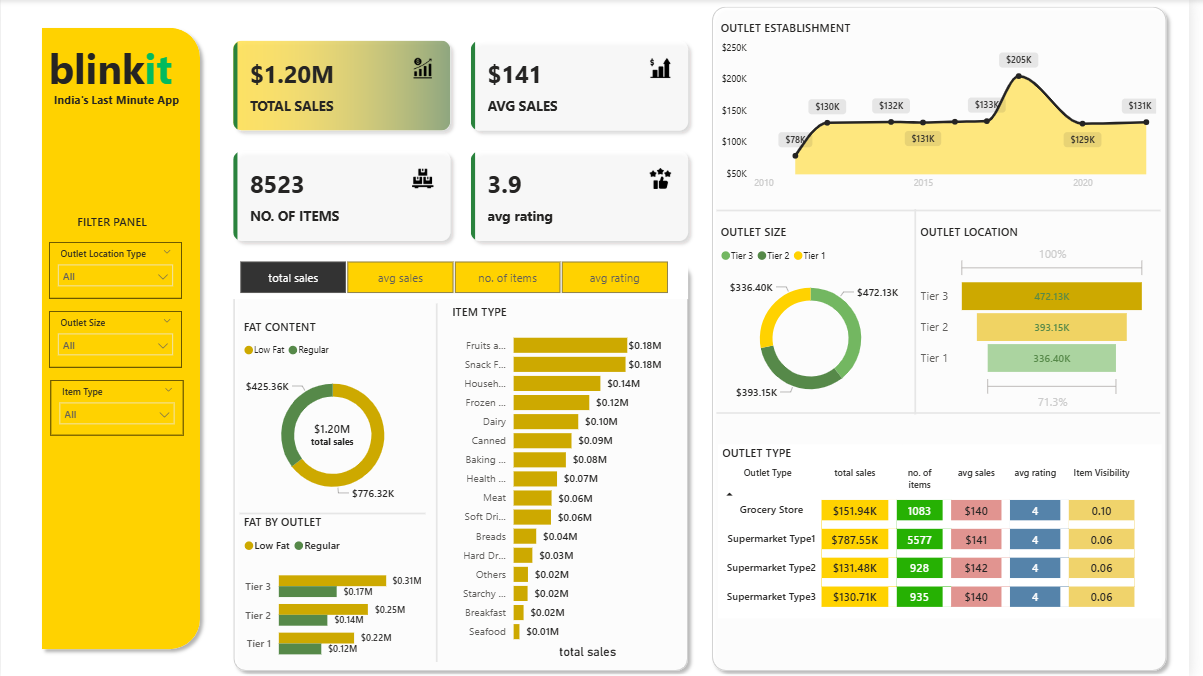

The page's visual inventory and layout, read from the dashboard file:
{"tool":"powerbi","page":{"name":"Page 1","canvas":[1400,800],"ordinal":0},"visuals":[{"type":"shape","box":[39.3,24.8,204.6,750.3],"z":0},{"type":"textbox","box":[51.3,42.4,169.7,125.5],"z":1},{"type":"textbox","box":[50,105,173.3,45],"z":2},{"type":"cardVisual","fields":{"Data":["BlinkIT Grocery Data.total sales","BlinkIT Grocery Data.avg sales","BlinkIT Grocery Data.no. of items","BlinkIT Grocery Data.avg rating"]},"box":[256.3,31.8,570.9,270.4],"z":3},{"type":"shape","box":[265.1,302.2,553.2,498.4],"z":4},{"type":"donutChart","title":"FAT CONTENT","fields":{"Category":["BlinkIT Grocery Data.Item Fat Content"],"Y":["BlinkIT Grocery Data.total sales"]},"box":[281,376.4,219.2,229.8],"z":5},{"type":"cardVisual","fields":{"Data":["BlinkIT Grocery Data.total sales"]},"box":[328.7,473.6,123.7,77.8],"z":7},{"type":"slicer","fields":{"Values":["METRICS 3.METRICS"]},"box":[256.3,302.2,553.2,51.3],"z":8},{"type":"clusteredBarChart","title":"FAT BY OUTLET","fields":{"Y":["BlinkIT Grocery Data.total sales"],"Category":["BlinkIT Grocery Data.Outlet Location Type"],"Series":["BlinkIT Grocery Data.Item Fat Content"]},"box":[281,606.2,219.2,185.6],"z":9},{"type":"shape","box":[281,569.1,219.2,74.2],"z":10},{"type":"shape","box":[500.2,358.8,26.5,422.4],"z":11},{"type":"barChart","title":"ITEM TYPE","fields":{"Category":["BlinkIT Grocery Data.Item Type"],"Y":["BlinkIT Grocery Data.total sales"]},"box":[526.7,358.8,256.3,422.4],"z":12},{"type":"shape","box":[828.9,0,553.2,800.6],"z":13},{"type":"lineChart","title":"OUTLET ESTABLISHMENT","fields":{"Category":["BlinkIT Grocery Data.Outlet Establishment Year"],"Y":["BlinkIT Grocery Data.total sales"]},"box":[843,24.7,523.1,208.5],"z":14},{"type":"shape","box":[843,212.1,523.1,74.2],"z":15},{"type":"donutChart","title":"OUTLET SIZE","fields":{"Y":["BlinkIT Grocery Data.total sales"],"Category":["BlinkIT Grocery Data.Outlet Location Type"]},"box":[843,265.1,220.9,224.5],"z":16},{"type":"shape","box":[1063.9,247.4,26.5,242.1],"z":17},{"type":"funnel","title":"OUTLET LOCATION","fields":{"Y":["Sum(BlinkIT Grocery Data.Sales)"],"Category":["BlinkIT Grocery Data.Outlet Location Type"]},"box":[1077.3,265.2,275.8,224.2],"z":18},{"type":"shape","box":[842.4,451.5,522.7,74.2],"z":19},{"type":"pivotTable","title":"OUTLET TYPE","fields":{"Rows":["BlinkIT Grocery Data.Outlet Type"],"Values":["BlinkIT Grocery Data.total sales","BlinkIT Grocery Data.no. of items","BlinkIT Grocery Data.avg sales","BlinkIT Grocery Data.avg rating","Avg(BlinkIT Grocery Data.Item Visibility)"]},"box":[843.9,525.8,522.7,204.5],"z":20},{"type":"slicer","fields":{"Values":["BlinkIT Grocery Data.Outlet Location Type"]},"box":[56.7,286.7,156.7,66.7],"z":21},{"type":"slicer","fields":{"Values":["BlinkIT Grocery Data.Outlet Size"]},"box":[56.7,368.3,156.7,66.7],"z":22},{"type":"slicer","fields":{"Values":["BlinkIT Grocery Data.Item Type"]},"box":[58.3,448.3,156.7,65],"z":23},{"type":"textbox","box":[85,246.7,101.7,28.3],"z":24}]}

Visuals, with their boxes in screenshot pixels (x1, y1, x2, y2), scaled from the page's 1400x800 canvas onto the 1203x676 screenshot:
shape: [34, 21, 210, 655]
textbox: [44, 36, 190, 142]
textbox: [43, 89, 192, 127]
cardVisual - BlinkIT Grocery Data.total sales x BlinkIT Grocery Data.avg sales: [220, 27, 711, 255]
shape: [228, 255, 703, 675]
"FAT CONTENT" donutChart: [241, 318, 430, 512]
cardVisual - BlinkIT Grocery Data.total sales: [282, 400, 389, 466]
slicer - METRICS 3.METRICS: [220, 255, 696, 299]
"FAT BY OUTLET" clusteredBarChart: [241, 512, 430, 669]
shape: [241, 481, 430, 544]
shape: [430, 303, 453, 660]
"ITEM TYPE" barChart: [453, 303, 673, 660]
shape: [712, 0, 1188, 675]
"OUTLET ESTABLISHMENT" lineChart: [724, 21, 1174, 197]
shape: [724, 179, 1174, 242]
"OUTLET SIZE" donutChart: [724, 224, 914, 414]
shape: [914, 209, 937, 414]
"OUTLET LOCATION" funnel: [926, 224, 1163, 414]
shape: [724, 382, 1173, 444]
"OUTLET TYPE" pivotTable: [725, 444, 1174, 617]
slicer - BlinkIT Grocery Data.Outlet Location Type: [49, 242, 183, 299]
slicer - BlinkIT Grocery Data.Outlet Size: [49, 311, 183, 368]
slicer - BlinkIT Grocery Data.Item Type: [50, 379, 185, 434]
textbox: [73, 208, 160, 232]
